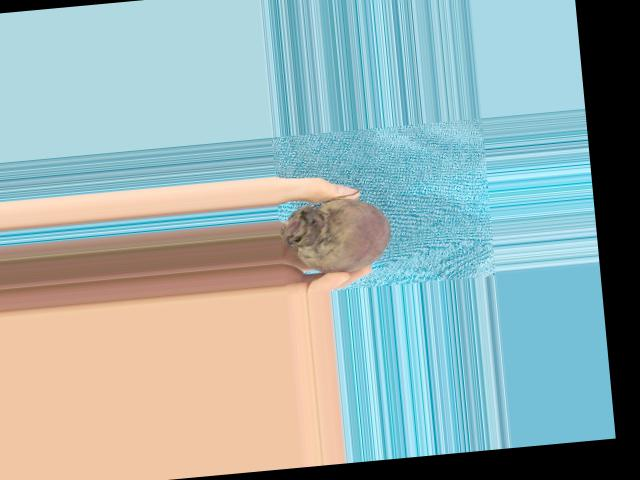beet: (278, 185, 394, 277)
